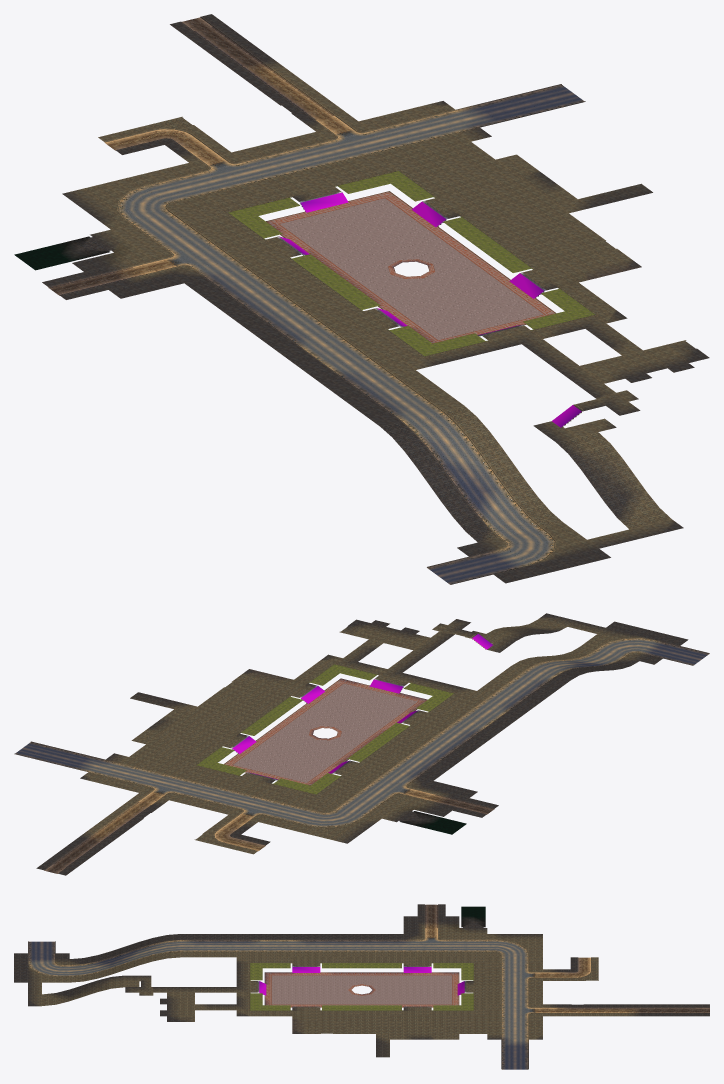
Rendered from M7_Zone4.glb.
The picture shows the model from 3 angles, top to bottom: view 1: azimuth 30°, elevation 25°; view 2: azimuth 150°, elevation 25°; view 3: azimuth 270°, elevation 25°; orthographic projection. The views are drawn at different scales.
Parts seen in each view (by area): view 1: M7_ZONE4018, M7_ZONE4023, M7_ZONE4013, M7_ZONE4029, M7_ZONE4107, M7_ZONE4067, M7_ZONE4129, M7_ZONE4130, M7_ZONE4148, M7_ZONE4113, M7_ZONE4007, M7_ZONE4150 (+89 smaller); view 2: M7_ZONE4067, M7_ZONE4107, M7_ZONE4050, M7_ZONE4049, M7_ZONE4001, M7_ZONE4101, M7_ZONE4100, M7_ZONE4138, M7_ZONE4141, M7_ZONE4002, M7_ZONE4136, M7_ZONE4139 (+84 smaller); view 3: M7_ZONE4064, M7_ZONE4104, M7_ZONE4046, M7_ZONE4062, M7_ZONE4126, M7_ZONE4047, M7_ZONE4054, M7_ZONE4063, M7_ZONE4103, M7_ZONE4127, M7_ZONE4055, M7_ZONE4115 (+84 smaller).
Boxes of the visible parts, x1=… form: M7_ZONE4018: x1=450, y1=469, x2=516, y2=512; M7_ZONE4023: x1=426, y1=436, x2=491, y2=479; M7_ZONE4013: x1=474, y1=502, x2=540, y2=537; M7_ZONE4029: x1=401, y1=411, x2=467, y2=446; M7_ZONE4107: x1=393, y1=198, x2=459, y2=231; M7_ZONE4067: x1=491, y1=270, x2=557, y2=303; M7_ZONE4129: x1=259, y1=183, x2=346, y2=212; M7_ZONE4130: x1=302, y1=173, x2=366, y2=202; M7_ZONE4148: x1=126, y1=168, x2=191, y2=194; M7_ZONE4113: x1=114, y1=242, x2=181, y2=270; M7_ZONE4007: x1=457, y1=537, x2=525, y2=565; M7_ZONE4150: x1=210, y1=147, x2=276, y2=175; M7_ZONE4067: x1=292, y1=683, x2=337, y2=706; M7_ZONE4107: x1=223, y1=734, x2=269, y2=757; M7_ZONE4050: x1=357, y1=665, x2=402, y2=693; M7_ZONE4049: x1=375, y1=673, x2=431, y2=693; M7_ZONE4001: x1=642, y1=632, x2=688, y2=652; M7_ZONE4101: x1=401, y1=777, x2=447, y2=797; M7_ZONE4100: x1=431, y1=784, x2=477, y2=804; M7_ZONE4138: x1=231, y1=786, x2=277, y2=805; M7_ZONE4141: x1=142, y1=764, x2=188, y2=784; M7_ZONE4002: x1=612, y1=625, x2=658, y2=646; M7_ZONE4136: x1=290, y1=800, x2=336, y2=820; M7_ZONE4139: x1=201, y1=778, x2=247, y2=798; M7_ZONE4064: x1=292, y1=963, x2=320, y2=978; M7_ZONE4104: x1=403, y1=963, x2=431, y2=978; M7_ZONE4046: x1=236, y1=939, x2=264, y2=951; M7_ZONE4062: x1=292, y1=939, x2=320, y2=951; M7_ZONE4126: x1=459, y1=939, x2=487, y2=951; M7_ZONE4047: x1=236, y1=951, x2=264, y2=963; M7_ZONE4054: x1=264, y1=939, x2=292, y2=951; M7_ZONE4063: x1=292, y1=951, x2=320, y2=963; M7_ZONE4103: x1=403, y1=951, x2=431, y2=963; M7_ZONE4127: x1=459, y1=951, x2=487, y2=963; M7_ZONE4055: x1=264, y1=951, x2=292, y2=963; M7_ZONE4115: x1=431, y1=951, x2=459, y2=963.
Size of the model in its own units: 112 by 8.1 by 200.
Materials: 27 (26 with a texture image).
